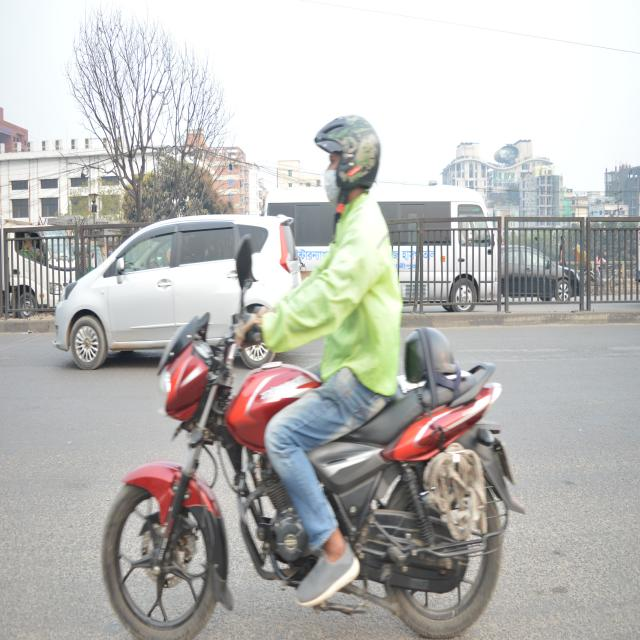bus: (267, 186, 498, 311)
car: (55, 205, 303, 371), (502, 235, 580, 318)
motorbike: (99, 314, 513, 640)
pickup-van: (0, 203, 74, 316)
